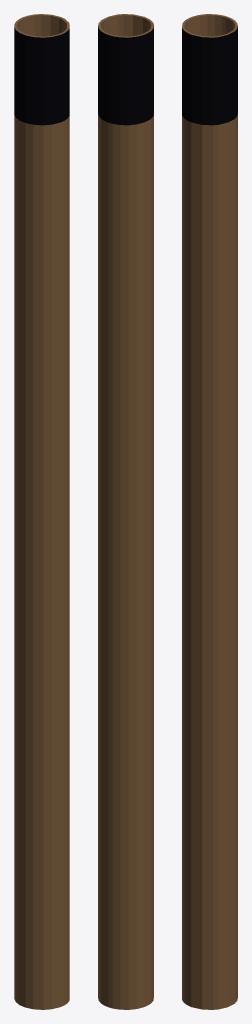
Rendered from element_267 - Park Hill Tower.fbx.
The picture shows the model from 3 angles, left to right: view 1: azimuth 90°, elevation 25°; view 2: azimuth 150°, elevation 25°; view 3: azimuth 330°, elevation 25°; orthographic projection.
Visible parts, largest first — view 1: element.267; view 2: element.267; view 3: element.267.
Boxes of the visible parts, left/top/right/bottom form: element.267: left=14, top=14, right=69, bottom=1009; element.267: left=98, top=14, right=153, bottom=1009; element.267: left=182, top=14, right=237, bottom=1009.
Bounding box in the file's own units: 319 × 6100 × 316.
